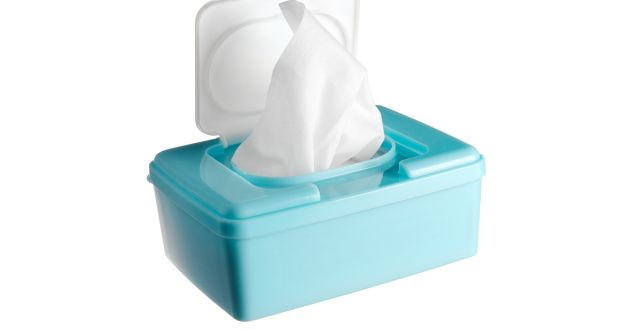Tissue: (229, 1, 388, 179)
